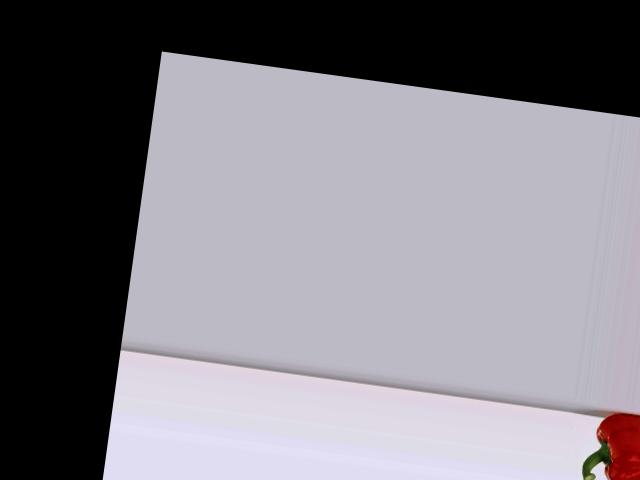bell_pepper: (571, 404, 640, 480)
